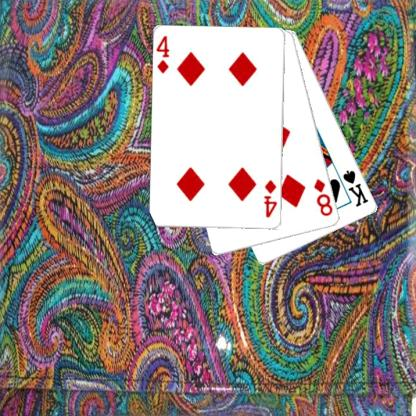4D: (261, 178, 278, 219), (154, 34, 171, 75)
8D: (311, 176, 334, 217)
KS: (341, 167, 370, 208)
